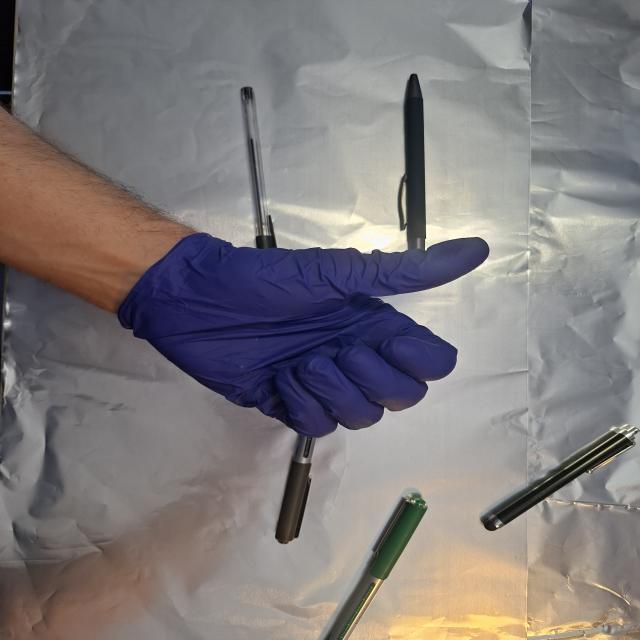glove_on: (118, 231, 494, 440)
